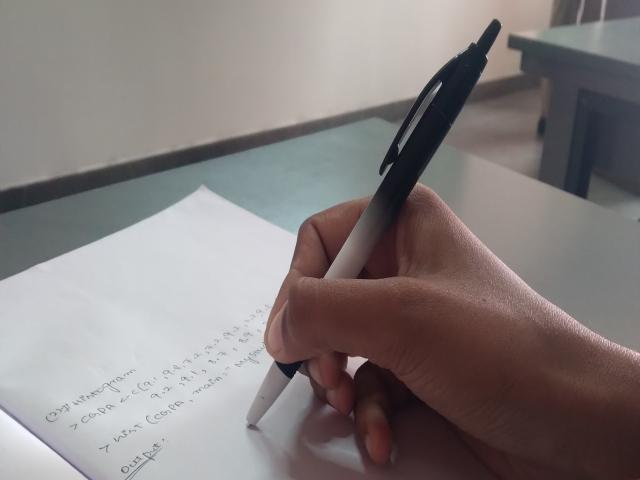PEN: (211, 4, 519, 450)
